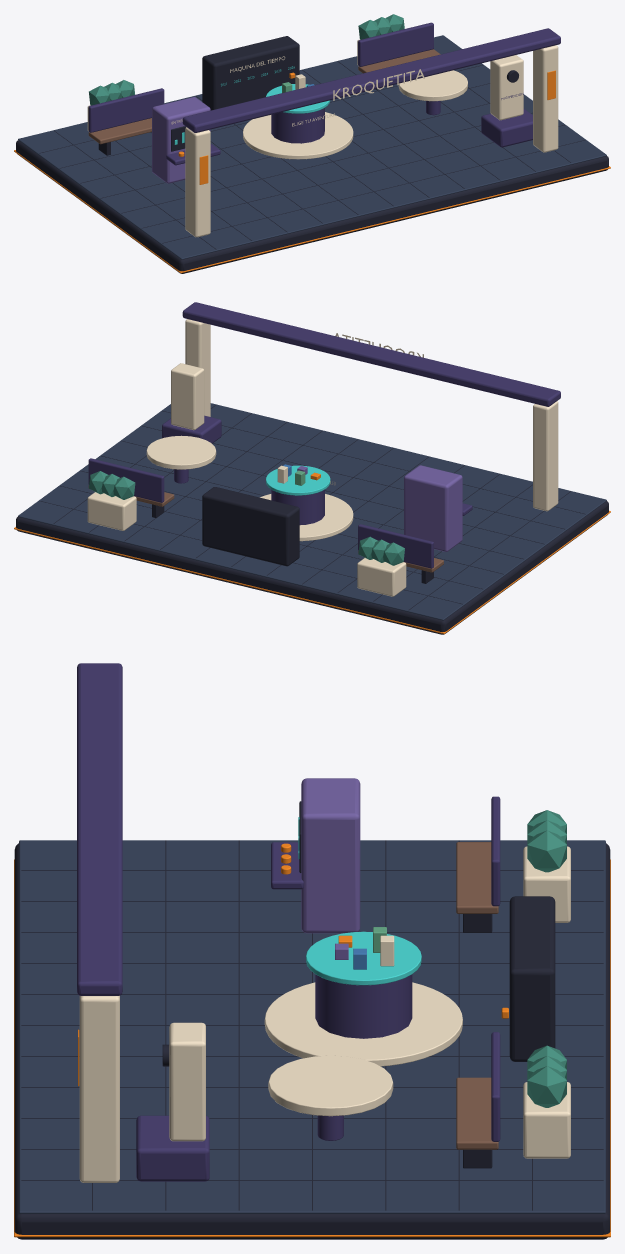
Rendered from plaza.glb.
3 views of the same model, one above another, from view 1: azimuth 30°, elevation 25°; view 2: azimuth 150°, elevation 25°; view 3: azimuth 270°, elevation 25° (orthographic). The views are drawn at different scales.
Parts seen in each view (by area): view 1: Batch_KROQUETITA__Ciudad_completa_CITY / slate, Batch_KROQUETITA__Ciudad_completa_CITY / charcoal, Batch_KROQUETITA__Ciudad_completa_CITY / purple, Batch_KROQUETITA__Ciudad_completa_CITY / cream, Batch_KROQUETITA__Ciudad_completa_CITY / lavender, Batch_KROQUETITA__Ciudad_completa_CITY / orange, Batch_KROQUETITA__Ciudad_completa_CITY / leaf, Batch_KROQUETITA__Ciudad_completa_CITY / wood, Batch_KROQUETITA__Ciudad_completa_CITY / cyan; view 2: Batch_KROQUETITA__Ciudad_completa_CITY / slate, Batch_KROQUETITA__Ciudad_completa_CITY / charcoal, Batch_KROQUETITA__Ciudad_completa_CITY / cream, Batch_KROQUETITA__Ciudad_completa_CITY / purple, Batch_KROQUETITA__Ciudad_completa_CITY / lavender, Batch_KROQUETITA__Ciudad_completa_CITY / leaf, Batch_KROQUETITA__Ciudad_completa_CITY / orange, Batch_KROQUETITA__Ciudad_completa_CITY / cyan, Batch_KROQUETITA__Ciudad_completa_CITY / wood; view 3: Batch_KROQUETITA__Ciudad_completa_CITY / slate, Batch_KROQUETITA__Ciudad_completa_CITY / charcoal, Batch_KROQUETITA__Ciudad_completa_CITY / cream, Batch_KROQUETITA__Ciudad_completa_CITY / purple, Batch_KROQUETITA__Ciudad_completa_CITY / lavender, Batch_KROQUETITA__Ciudad_completa_CITY / wood, Batch_KROQUETITA__Ciudad_completa_CITY / leaf, Batch_KROQUETITA__Ciudad_completa_CITY / cyan, Batch_KROQUETITA__Ciudad_completa_CITY / orange.
Boxes of the visible parts, box(x1,y1,x2,y2) form: Batch_KROQUETITA__Ciudad_completa_CITY / slate: box(18, 35, 606, 259); Batch_KROQUETITA__Ciudad_completa_CITY / charcoal: box(16, 36, 608, 273); Batch_KROQUETITA__Ciudad_completa_CITY / purple: box(88, 22, 560, 165); Batch_KROQUETITA__Ciudad_completa_CITY / cream: box(87, 39, 558, 237); Batch_KROQUETITA__Ciudad_completa_CITY / lavender: box(152, 97, 210, 183); Batch_KROQUETITA__Ciudad_completa_CITY / orange: box(14, 70, 610, 273); Batch_KROQUETITA__Ciudad_completa_CITY / leaf: box(89, 14, 404, 105); Batch_KROQUETITA__Ciudad_completa_CITY / wood: box(88, 49, 440, 144); Batch_KROQUETITA__Ciudad_completa_CITY / cyan: box(174, 66, 330, 144); Batch_KROQUETITA__Ciudad_completa_CITY / slate: box(18, 403, 606, 620); Batch_KROQUETITA__Ciudad_completa_CITY / charcoal: box(16, 404, 608, 634); Batch_KROQUETITA__Ciudad_completa_CITY / cream: box(87, 319, 558, 596); Batch_KROQUETITA__Ciudad_completa_CITY / purple: box(88, 302, 560, 568); Batch_KROQUETITA__Ciudad_completa_CITY / lavender: box(297, 465, 462, 551); Batch_KROQUETITA__Ciudad_completa_CITY / leaf: box(88, 471, 404, 565); Batch_KROQUETITA__Ciudad_completa_CITY / orange: box(14, 472, 610, 634); Batch_KROQUETITA__Ciudad_completa_CITY / cyan: box(266, 465, 330, 495); Batch_KROQUETITA__Ciudad_completa_CITY / wood: box(88, 485, 443, 572); Batch_KROQUETITA__Ciudad_completa_CITY / slate: box(19, 840, 605, 1213); Batch_KROQUETITA__Ciudad_completa_CITY / charcoal: box(14, 801, 610, 1239); Batch_KROQUETITA__Ciudad_completa_CITY / cream: box(79, 846, 570, 1182); Batch_KROQUETITA__Ciudad_completa_CITY / purple: box(77, 663, 500, 1181); Batch_KROQUETITA__Ciudad_completa_CITY / lavender: box(301, 778, 360, 959); Batch_KROQUETITA__Ciudad_completa_CITY / wood: box(456, 842, 498, 1149); Batch_KROQUETITA__Ciudad_completa_CITY / leaf: box(527, 810, 566, 1107); Batch_KROQUETITA__Ciudad_completa_CITY / cyan: box(298, 817, 421, 985); Batch_KROQUETITA__Ciudad_completa_CITY / orange: box(14, 843, 610, 1237).
Bounding box in the file's own units: 12.14 × 3.55 × 8.14.
